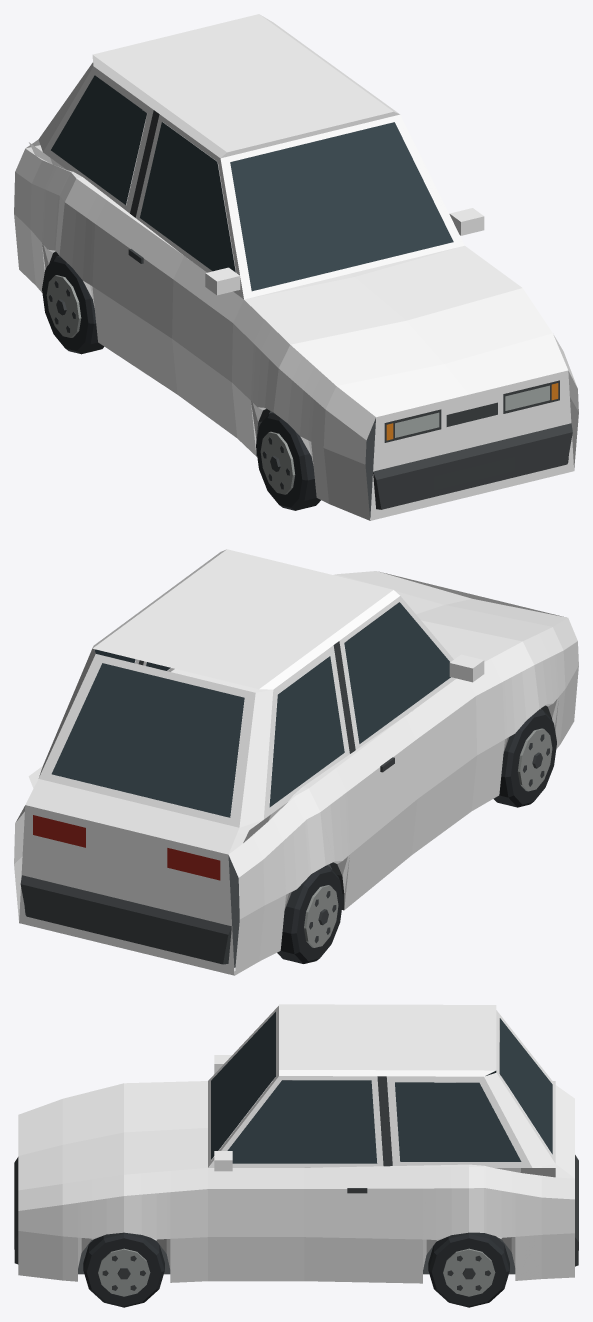
Rendered from hoshino_yoake.glb.
3 renders of one model, top to bottom at view 1: azimuth 30°, elevation 25°; view 2: azimuth 150°, elevation 25°; view 3: azimuth 270°, elevation 25°, orthographic. The views are drawn at different scales.
Visible parts, largest first — view 1: hoshino_yoake; view 2: hoshino_yoake; view 3: hoshino_yoake.
Part boxes in pixels (x1=…): hoshino_yoake: x1=14, y1=14, x2=578, y2=520; hoshino_yoake: x1=14, y1=549, x2=578, y2=975; hoshino_yoake: x1=14, y1=1004, x2=578, y2=1307.
Bounding box in the file's own units: 1.61 × 1.58 × 3.65.
8 materials, 1 textured.
